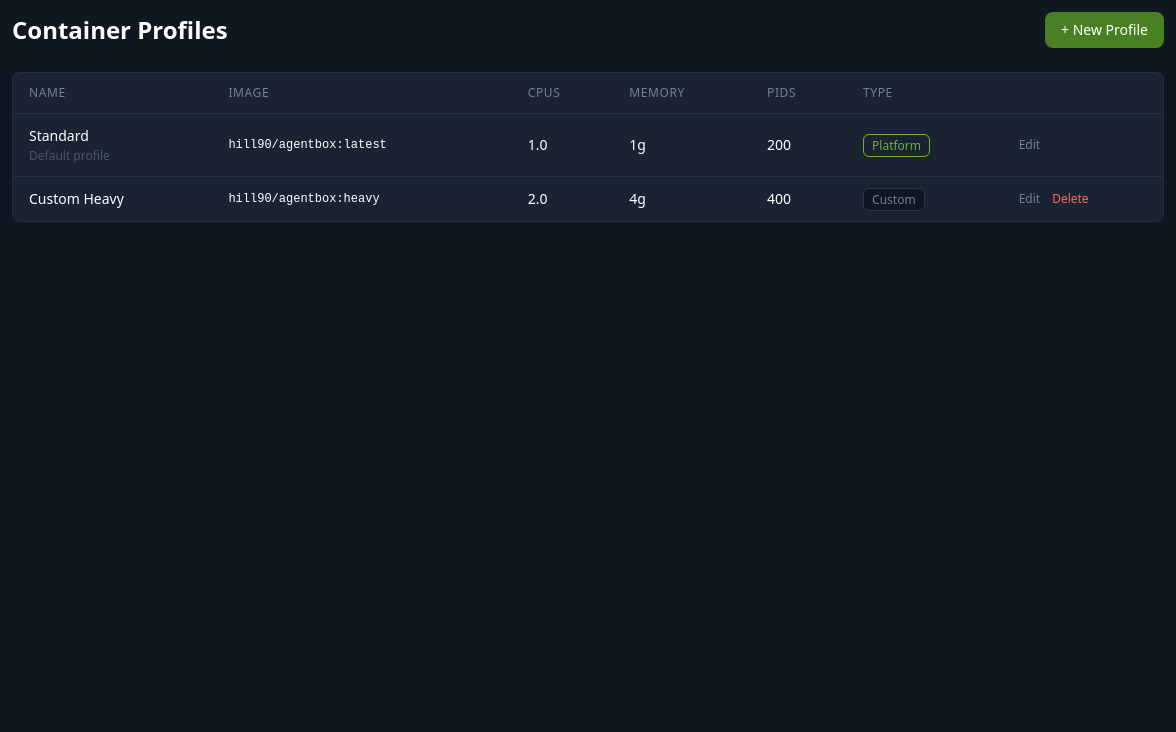
Scenario: ProfilesClient › shows an error, not a silently-open form, when creating a profile fails
Check: the text "Standard" is shown, box x1=29 y1=126 x2=89 y2=145
Click the button "+ New Profile".
click(1105, 30)  # box x1=1045 y1=12 x2=1164 y2=48
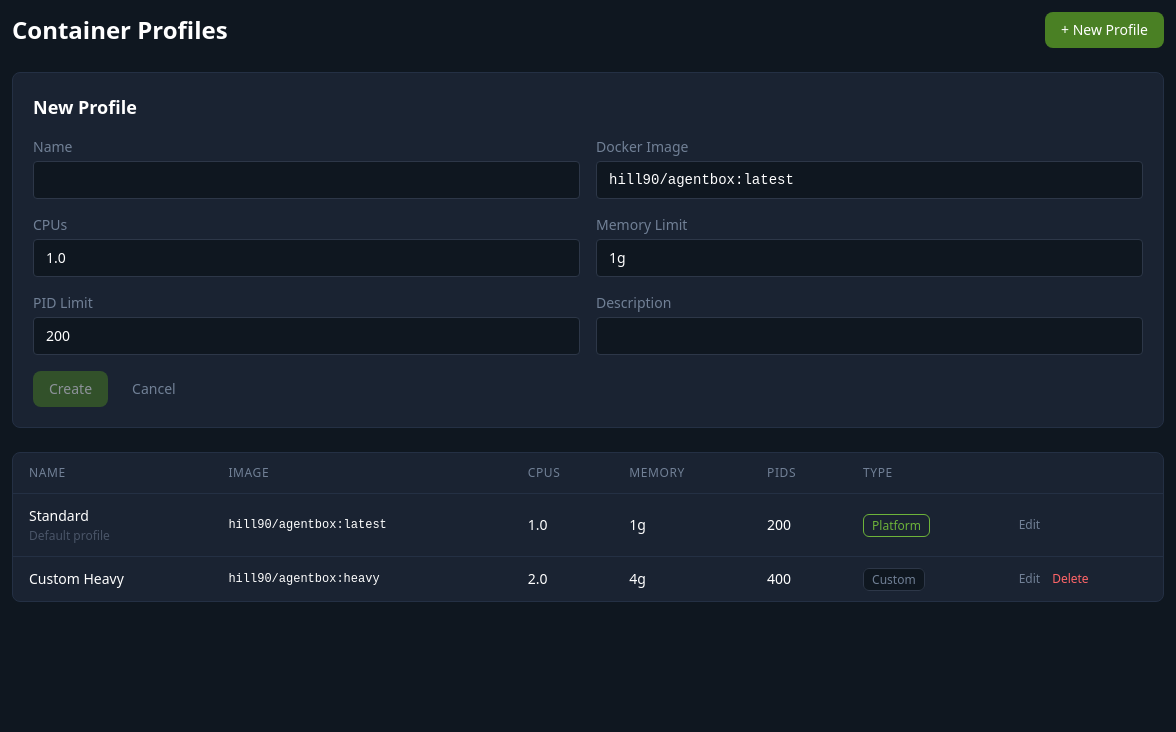
Type "Broken Profile" into the 1st field.
click(306, 180); type("Broken Profile")  # box x1=33 y1=161 x2=580 y2=199
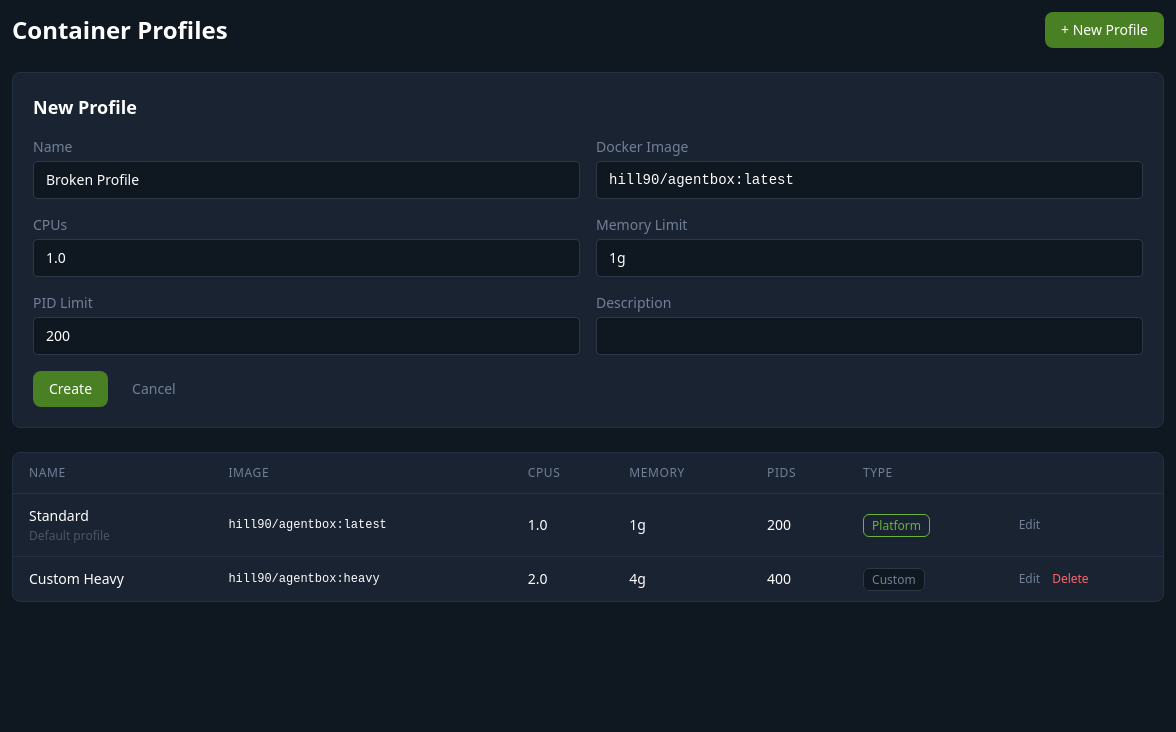
Click the button "Create".
click(71, 389)  # box x1=33 y1=371 x2=108 y2=407
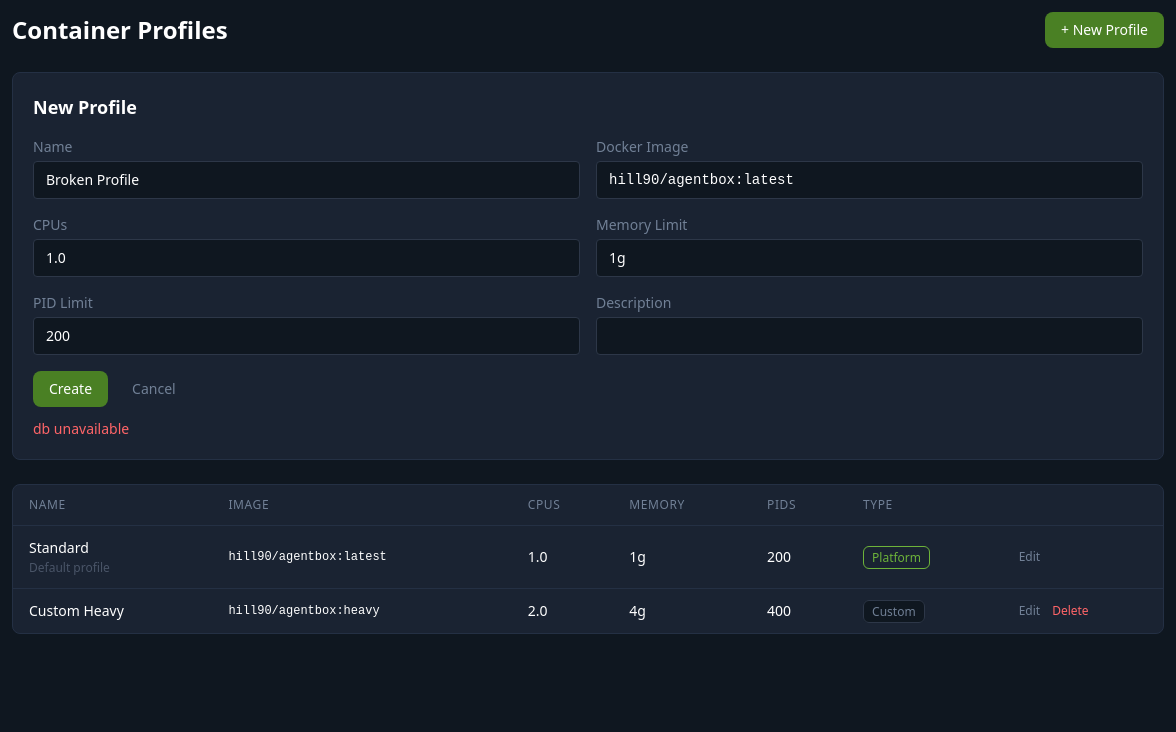
Check: the heading "New Profile" is shown, box x1=33 y1=95 x2=137 y2=119
Check: the text "db unavailable" is shown, box x1=33 y1=419 x2=129 y2=438
